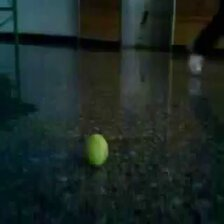tennis: (84, 133, 109, 166)
